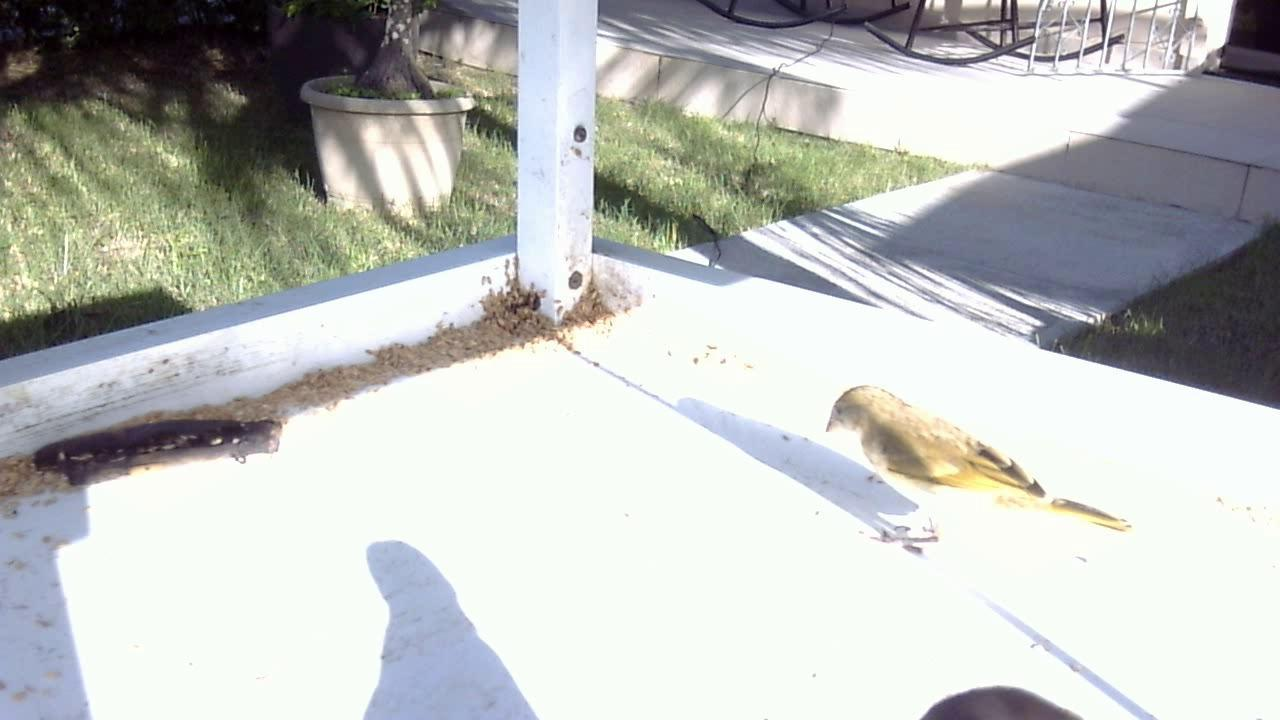canario_do_amazonas: (805, 365, 1146, 567)
